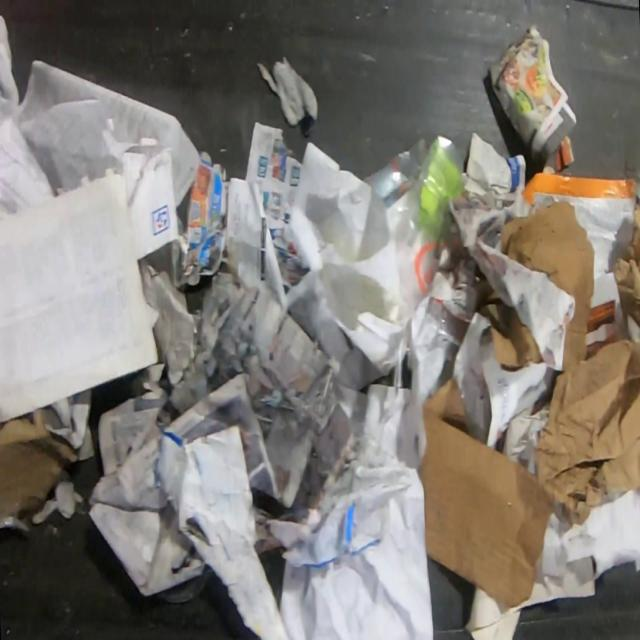cardboard: (418, 375, 554, 607), (532, 337, 640, 526), (501, 198, 595, 370), (470, 251, 550, 377), (0, 410, 78, 516)
rigid_plastic: (363, 134, 468, 308)
